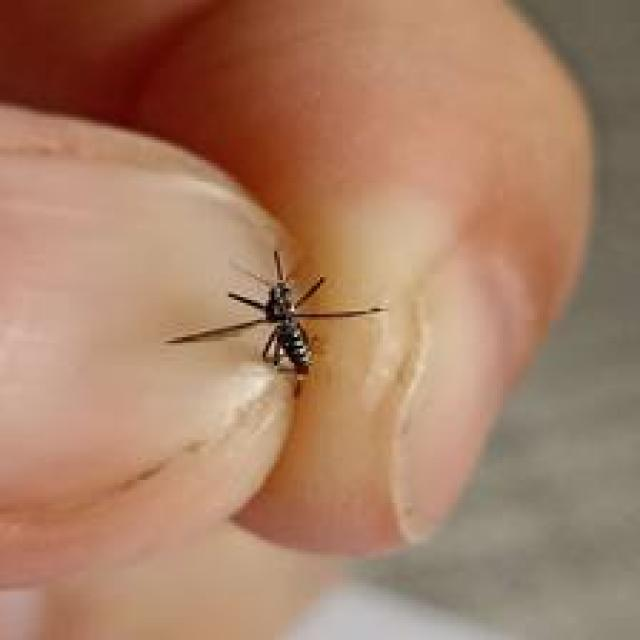Aedes albopictus: (164, 249, 387, 397)
